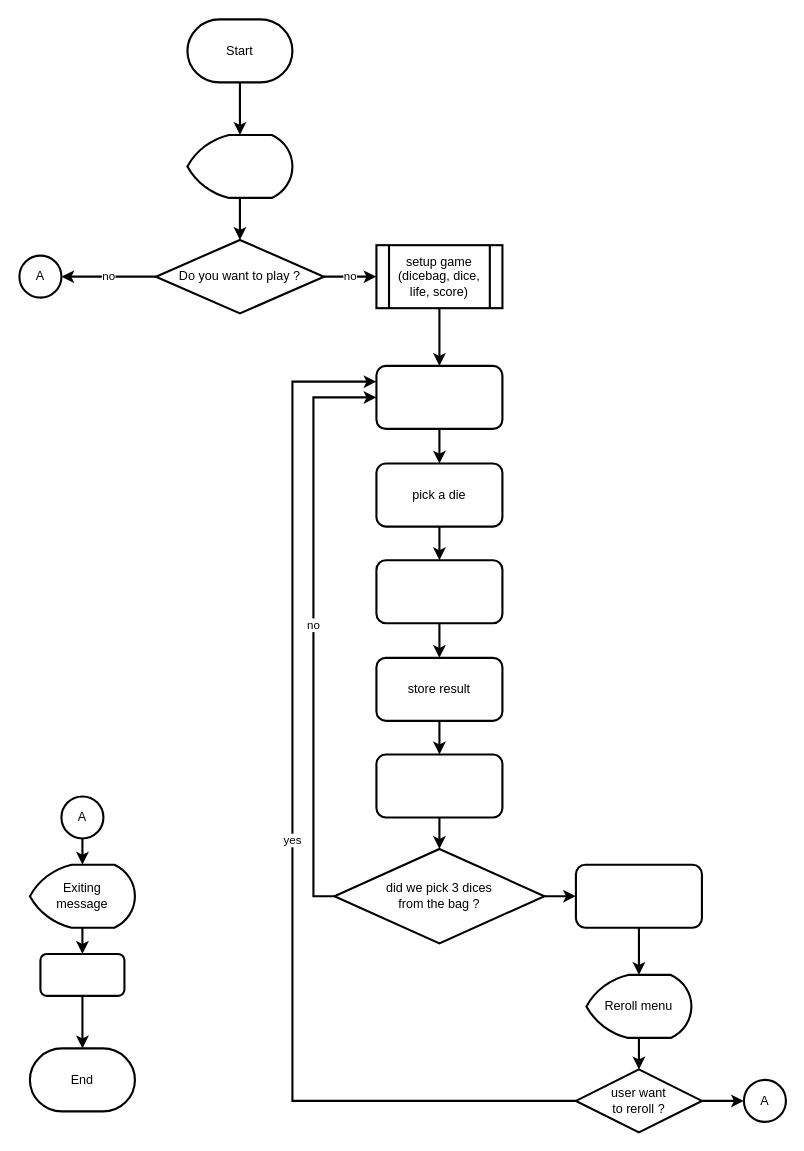
This 804x1151 diagram has some shape labels left out. Here are the shapes that lost their labels. From the top down, the centre of each, then its label:
the point at 239,165: Main Menu
the point at 439,396: shuffle dice bag
the point at 439,591: shuffle the die
the point at 439,785: delete the die from dice bag
the point at 638,895: show result
the point at 82,974: exit(0)
